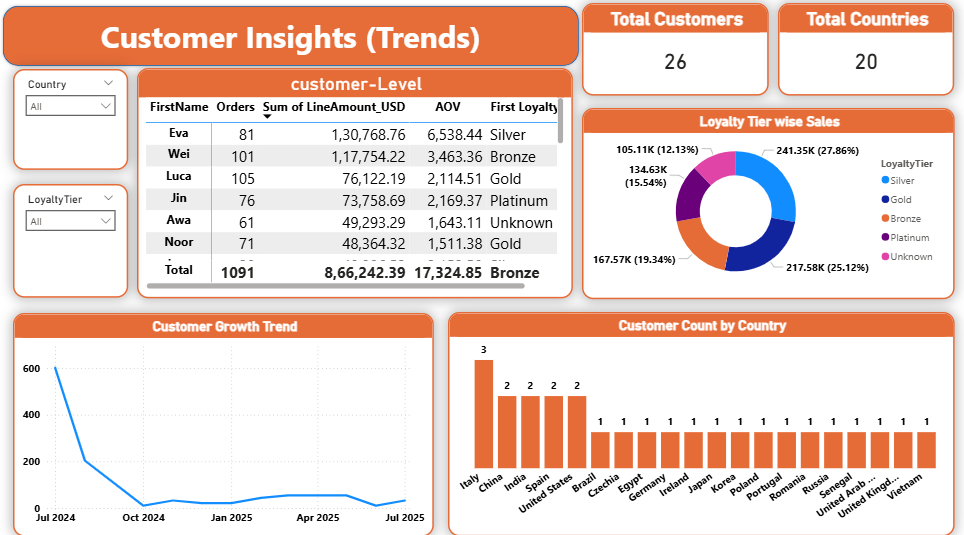

The dashboard page shown, as its layout file describes it:
{"tool":"powerbi","page":{"name":"DB3: Customer Insights","canvas":[1280,720],"ordinal":2},"visuals":[{"type":"card","title":"Total Customers","fields":{"Values":["DimCustomer.CustomerID"]},"box":[772.9,12.3,248.3,123.2],"z":0},{"type":"card","title":"Total Countries","fields":{"Values":["DimCustomer.Country"]},"box":[1033.5,12.3,234.2,123.2],"z":1000},{"type":"lineChart","title":"Customer Growth Trend","fields":{"Category":["Calendar_Table.Date.Variation.Date Hierarchy.Year","Calendar_Table.Date.Variation.Date Hierarchy.Month"],"Y":["FactSales.Orders.CustomerID"]},"box":[16.8,423.3,559.4,297.3],"z":2000},{"type":"clusteredColumnChart","title":"Customer Count by Country","fields":{"Category":["DimCustomer.Country"],"Y":["DimCustomer.CustomerID"]},"box":[595.1,422.6,672.6,297.6],"z":3000},{"type":"donutChart","title":"Loyalty Tier wise Sales","fields":{"Category":["DimCustomer.LoyaltyTier"],"Y":["FactSales.LineAmount_USD"]},"box":[772.9,151.4,494.7,253.5],"z":4000},{"type":"pivotTable","title":"customer-Level","fields":{"Values":["Measures Table.Orders","FactSales.LineAmount_USD","Measures Table.AOV","DimCustomer.LoyaltyTier"],"Rows":["DimCustomer.FirstName"]},"box":[181.3,98.6,579.3,306.4],"z":5000},{"type":"shape","box":[0,11.8,772.7,87.3],"z":6000},{"type":"slicer","fields":{"Values":["DimCustomer.Country"]},"box":[16.8,99.1,152.9,134.4],"z":7000},{"type":"slicer","fields":{"Values":["DimCustomer.LoyaltyTier"]},"box":[16.8,252,152.9,151.2],"z":8000}]}

Visuals, with their boxes in screenshot pixels (x1, y1, x2, y2), scaled from the page's 1280x720 canvas onto the 964x535 screenshot:
"Total Customers" card: 582:9:769:101
"Total Countries" card: 778:9:955:101
"Customer Growth Trend" lineChart: 13:315:434:534
"Customer Count by Country" clusteredColumnChart: 448:314:955:534
"Loyalty Tier wise Sales" donutChart: 582:112:955:301
"customer-Level" pivotTable: 137:73:573:301
shape: 0:9:582:74
slicer - DimCustomer.Country: 13:74:128:174
slicer - DimCustomer.LoyaltyTier: 13:187:128:300
